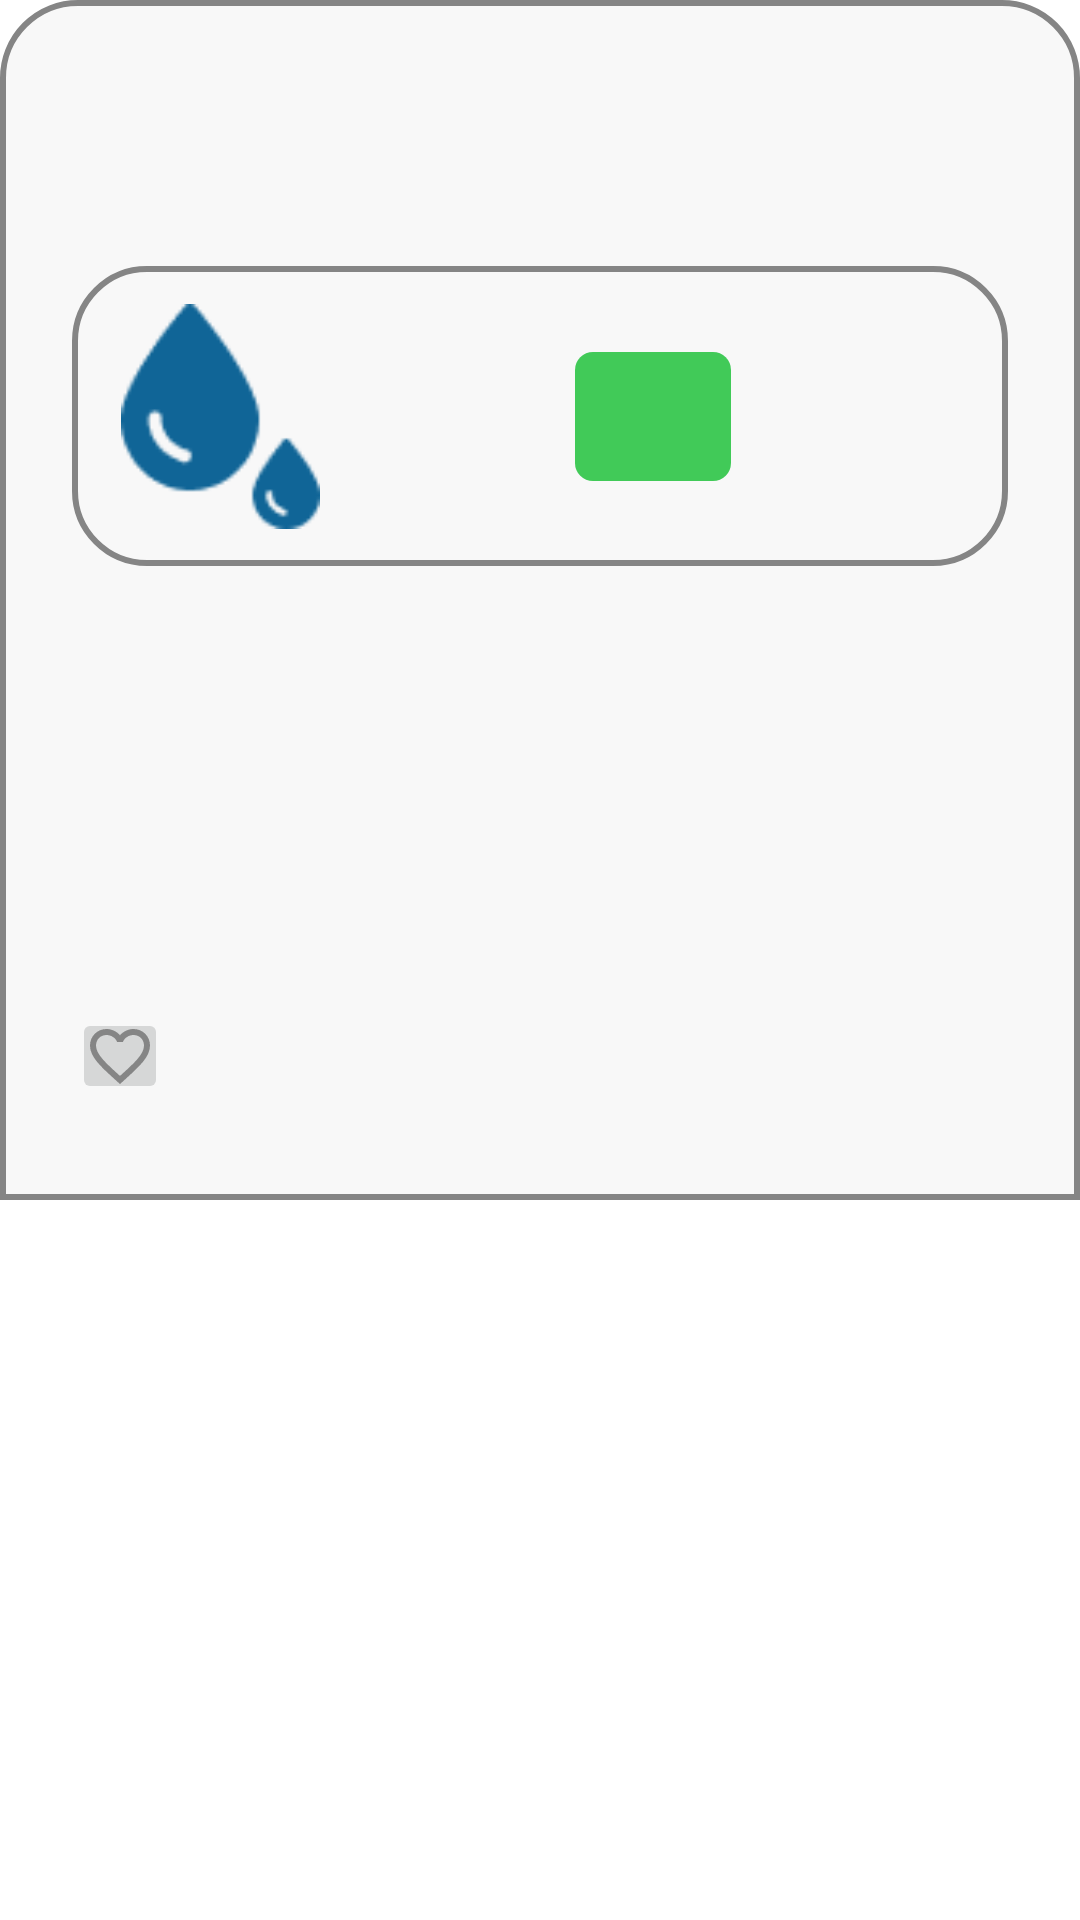

Screen size 1080×1920. Icon name, then its box in pixels as (x1, y1, x2, y2):
love: (84, 1026, 156, 1086)
water droplets: (121, 304, 320, 529)
